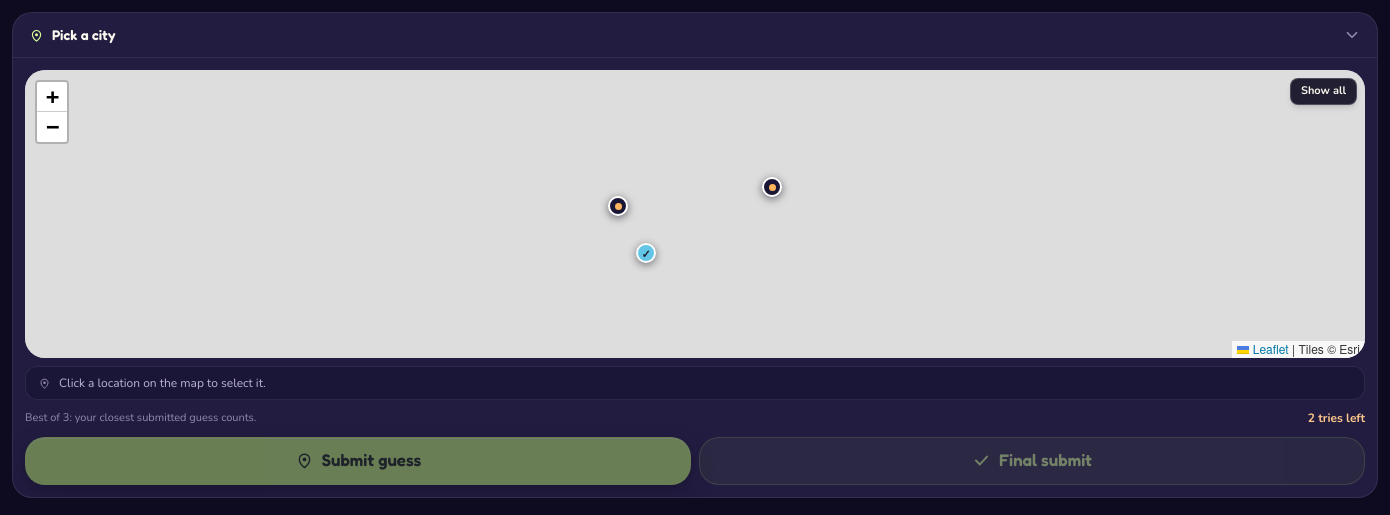
Scenario: GuessPanel easy-mode candidate map › renders candidate locations directly on the map and lets players click them to select and submit
Later steps or results of the test are not shown.
Check: the element named "World map with candidate locations" is shown, box [25,70,1365,358]
Check: the text "Click a location on the map to select it." is shown, box [59,375,266,391]
Click the button named "London, Europe": (618, 206) [604,192,632,220]
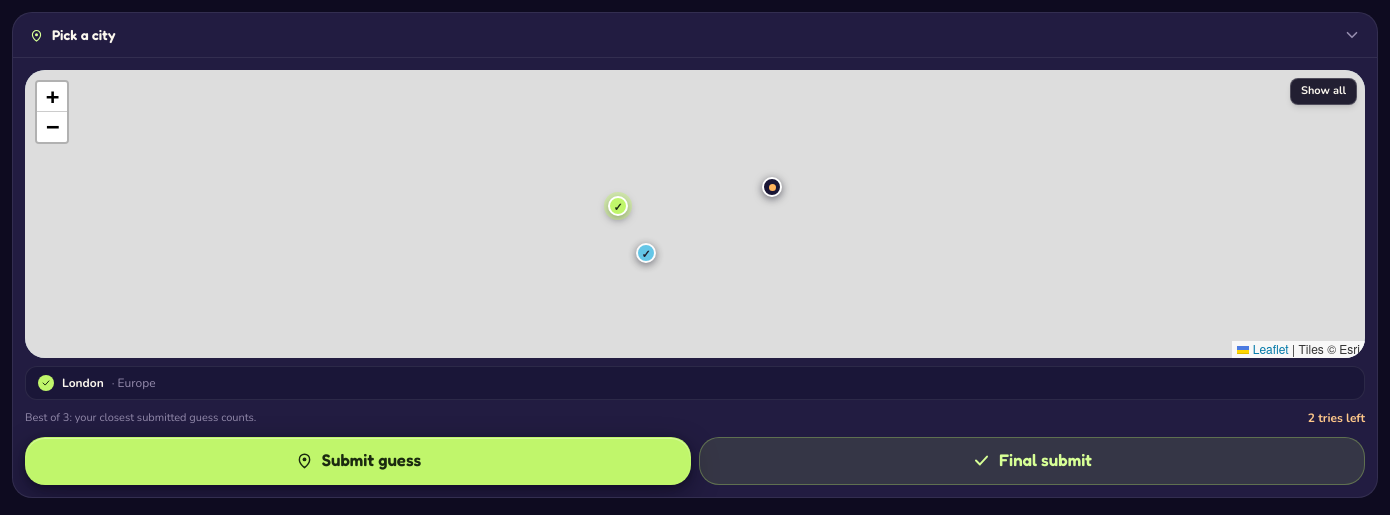
Check: the text "· Europe" is shown, box [112,375,156,391]
